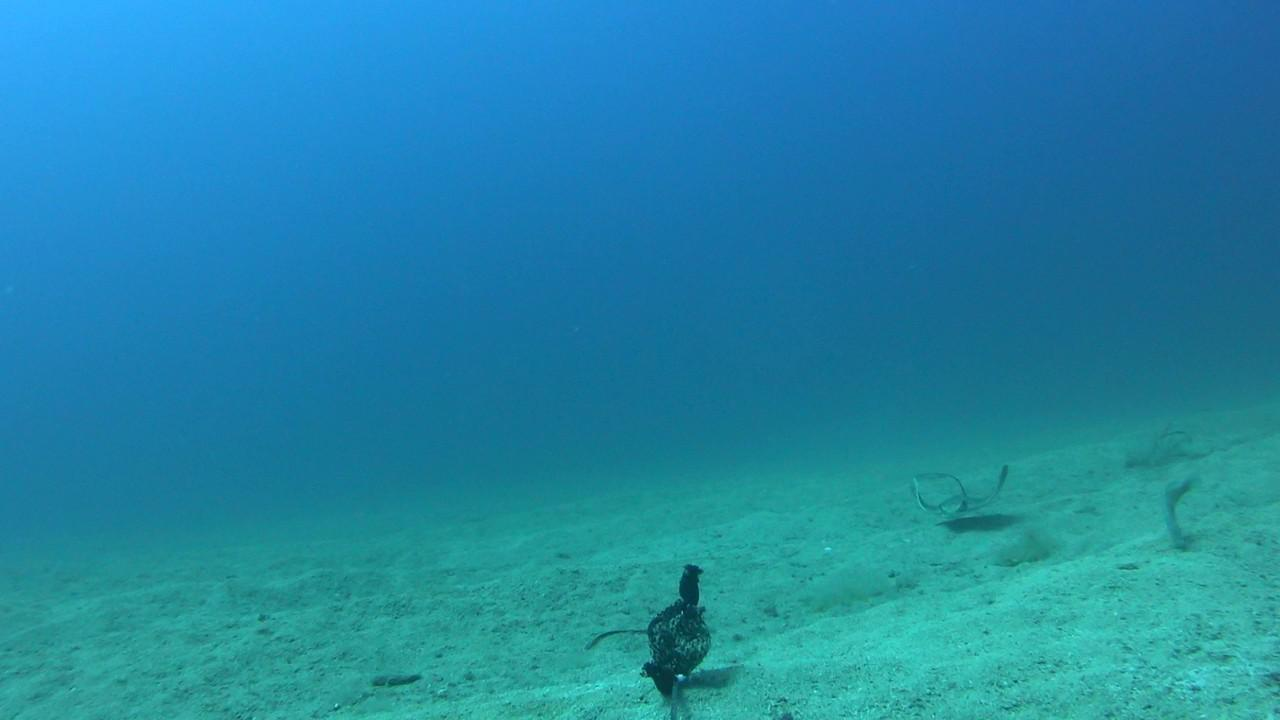myliobatis: (902, 454, 1012, 527)
